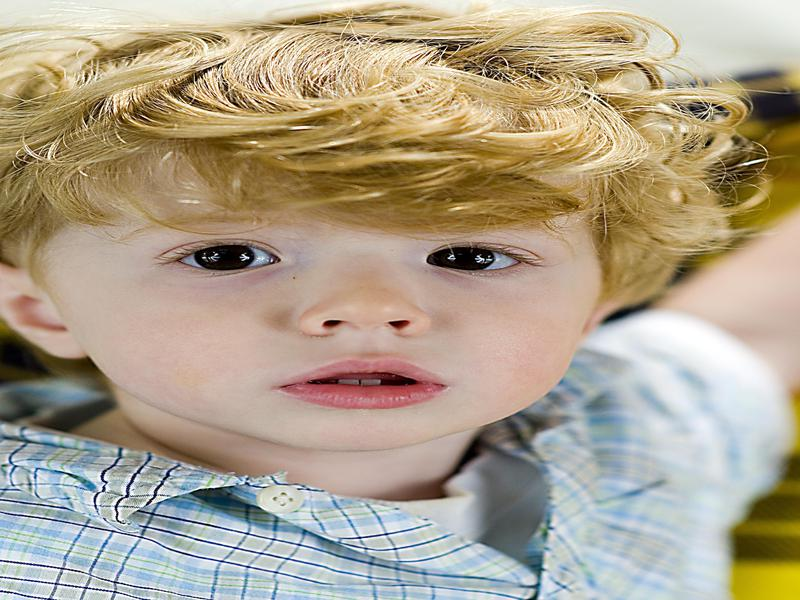person: (1, 5, 754, 600)
